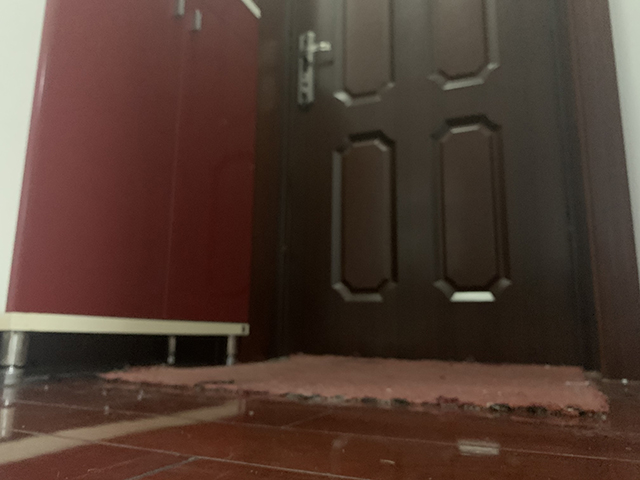carpet: (92, 351, 611, 421)
carpetcabinet: (1, 1, 263, 370)
